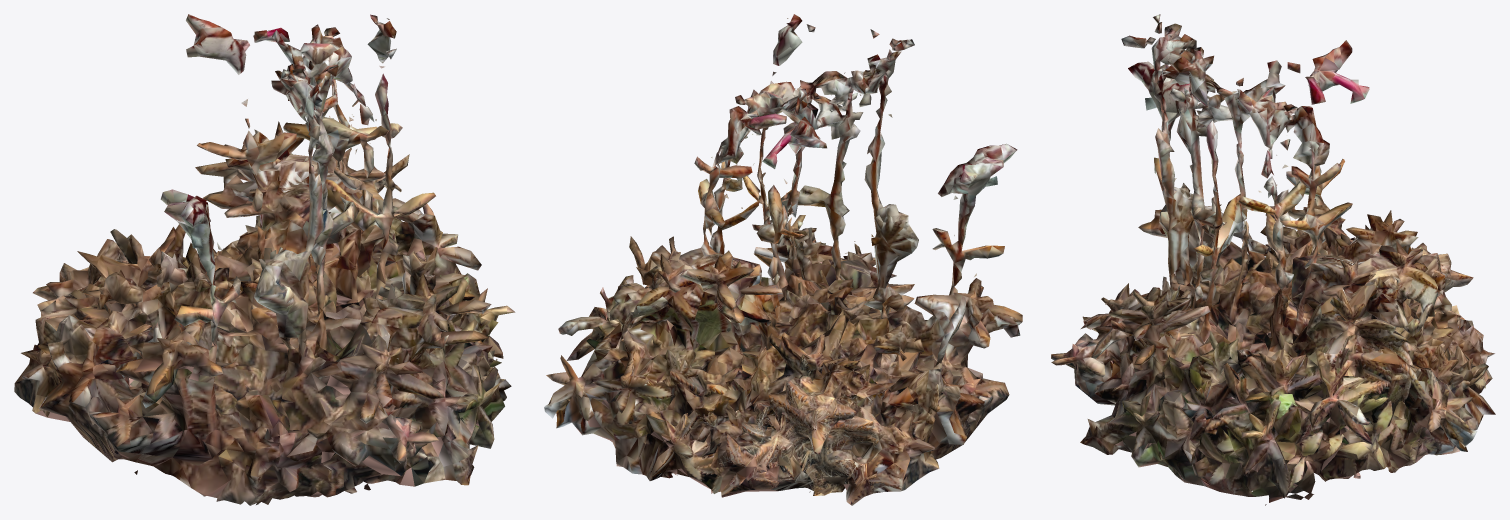
The model's file is plantaafterblender.fbx.
3 views of the same model, side by side, from view 1: azimuth 30°, elevation 25°; view 2: azimuth 150°, elevation 25°; view 3: azimuth 270°, elevation 25° (orthographic). The views are drawn at different scales.
Parts seen in each view (by area): view 1: model; view 2: model; view 3: model.
Part boxes in pixels (<box>): model: <box>14,14,515,505</box>; model: <box>544,14,1022,505</box>; model: <box>1051,14,1495,505</box>.
Bounding box in the file's own units: 279 × 269 × 274.
Materials: 8 (8 with a texture image).
